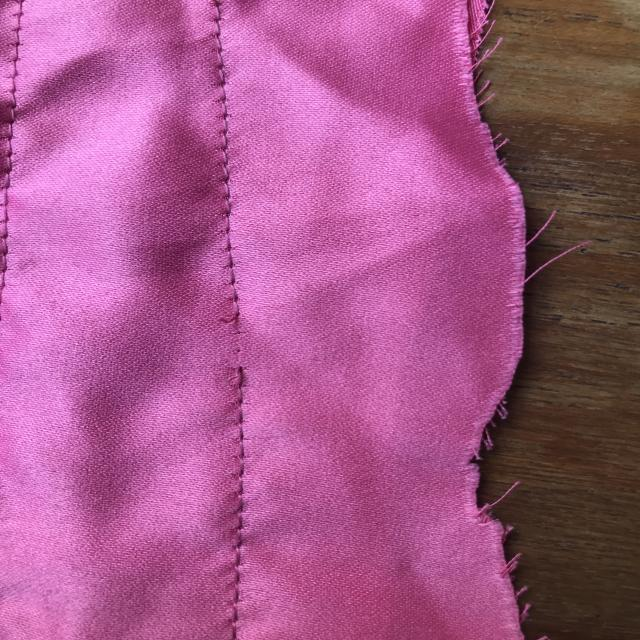broken: (204, 301, 268, 397)
